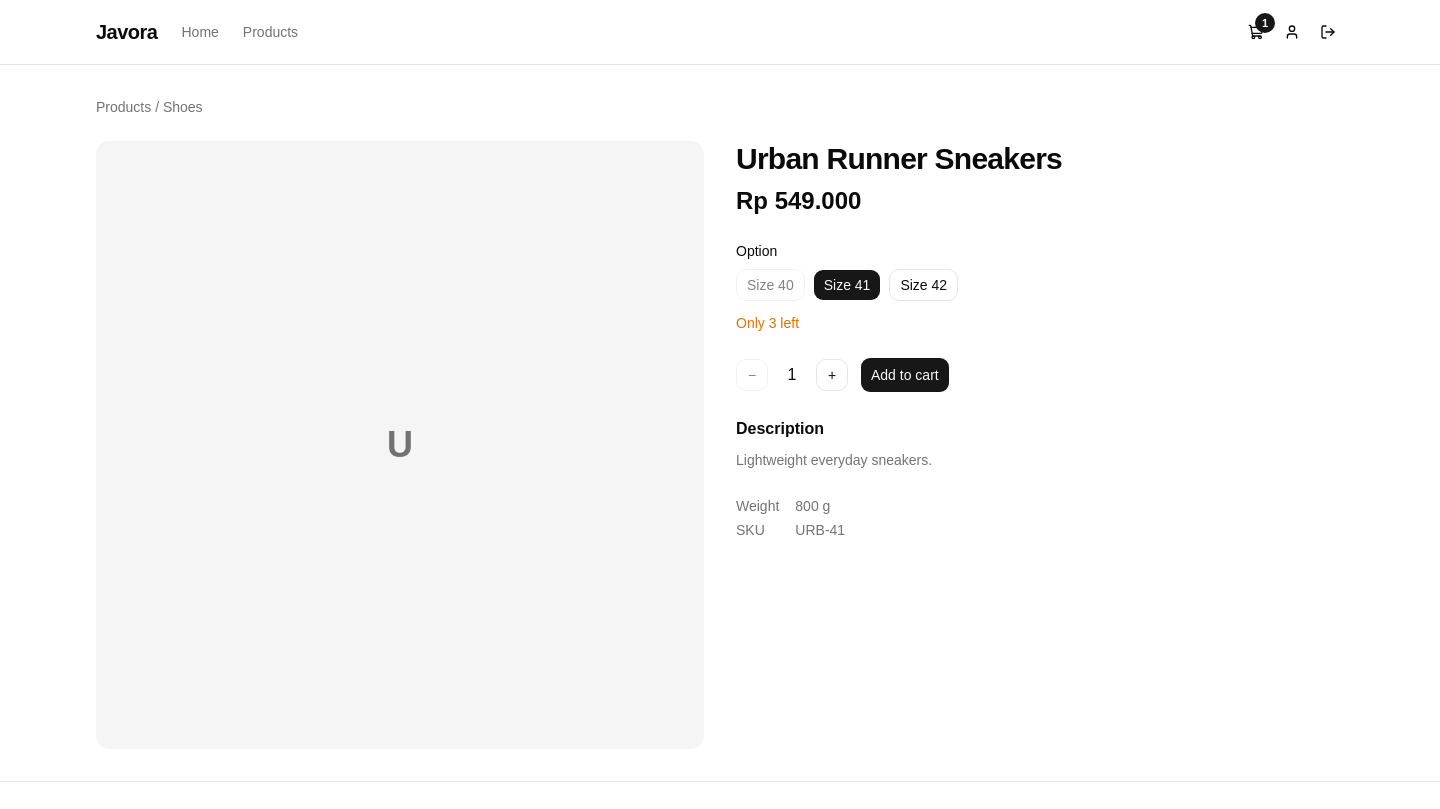
it: cart page when logged in › adds from the product page through the API and reports stock errors
Click the button "Add to cart" at point(905, 375), box [860,357,950,393]
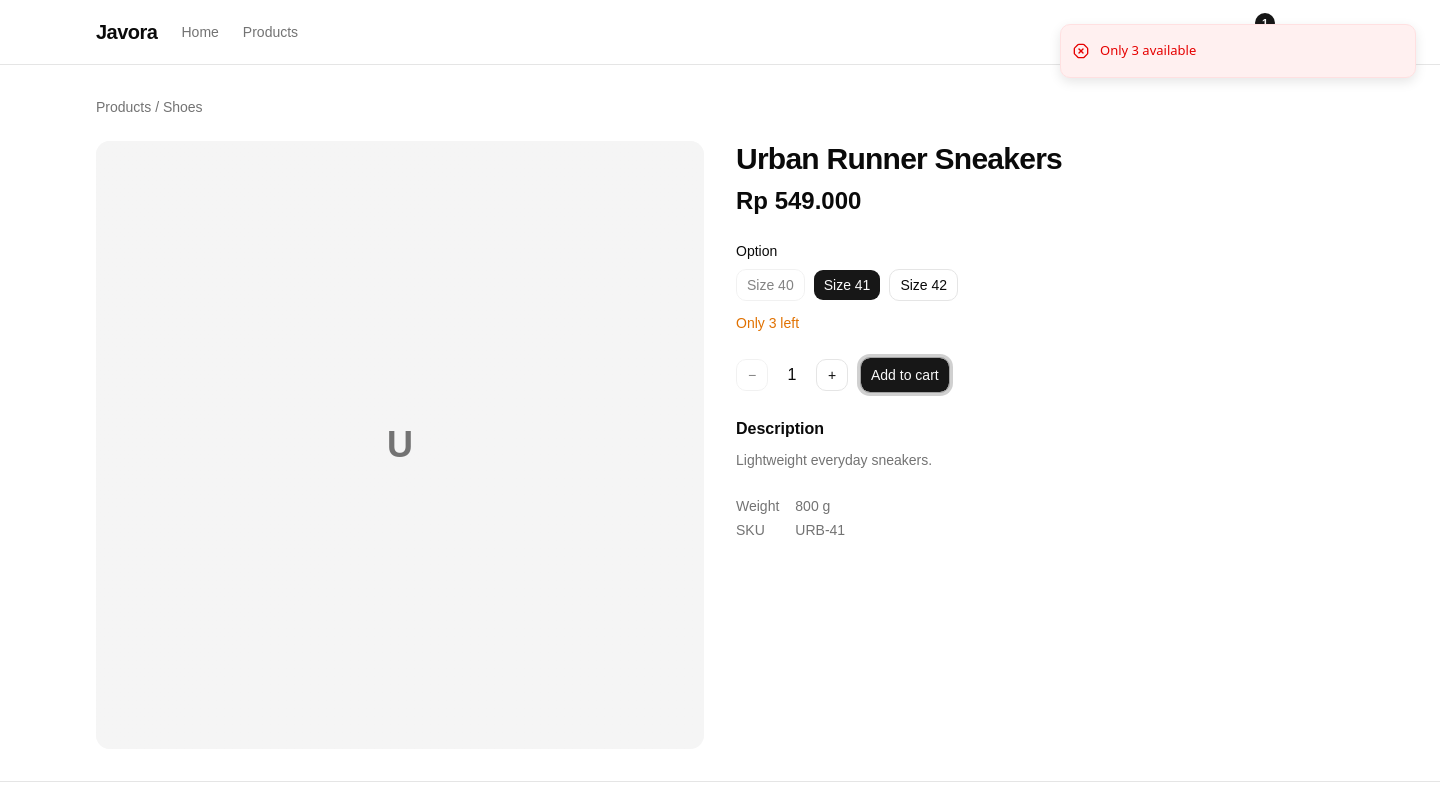
Check: the text "Only 3 available" is shown, box [1100,41,1196,60]
